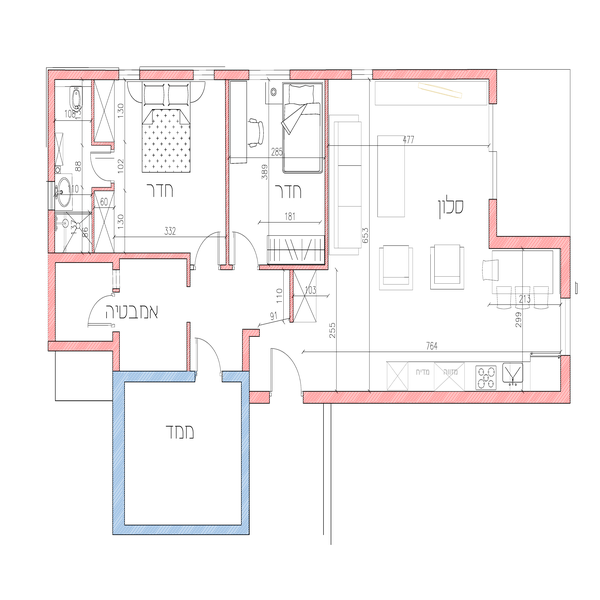door: (265, 344, 307, 400), (228, 227, 267, 273), (191, 332, 226, 379), (191, 226, 224, 272), (84, 290, 117, 326)
room: (303, 244, 571, 405), (321, 70, 500, 268), (45, 70, 228, 259), (113, 371, 249, 534), (221, 74, 331, 268), (45, 252, 197, 377)
wall: (305, 394, 567, 404), (114, 372, 125, 537), (114, 523, 247, 535), (47, 213, 58, 353), (45, 66, 57, 184), (48, 250, 187, 260), (377, 70, 497, 81), (489, 238, 569, 254), (242, 373, 248, 530), (46, 340, 115, 352), (241, 326, 251, 368)
window: (250, 69, 290, 84), (561, 300, 571, 352), (120, 67, 137, 81)
